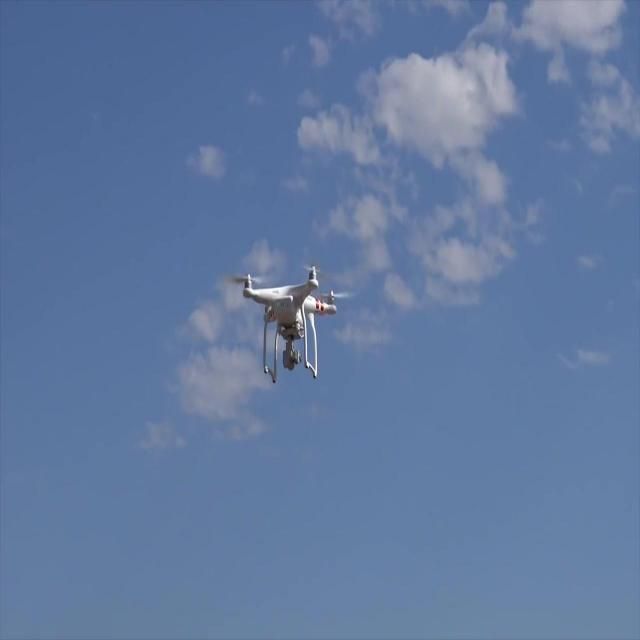UAV: (227, 258, 353, 383)
